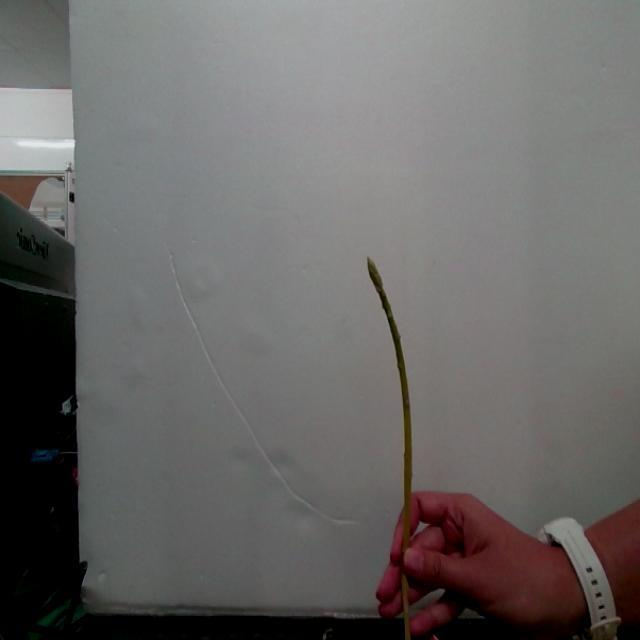aspargus: (368, 260, 414, 562)
